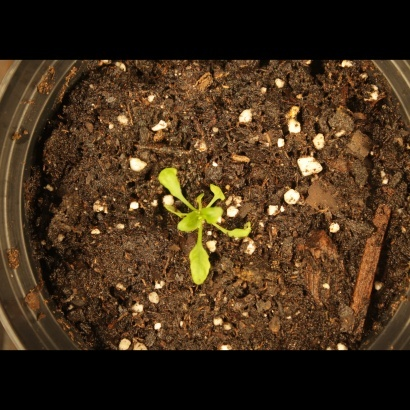leaf: (157, 165, 193, 209), (187, 238, 215, 287), (205, 178, 234, 205), (226, 220, 256, 245), (178, 211, 201, 234), (201, 203, 224, 226)
